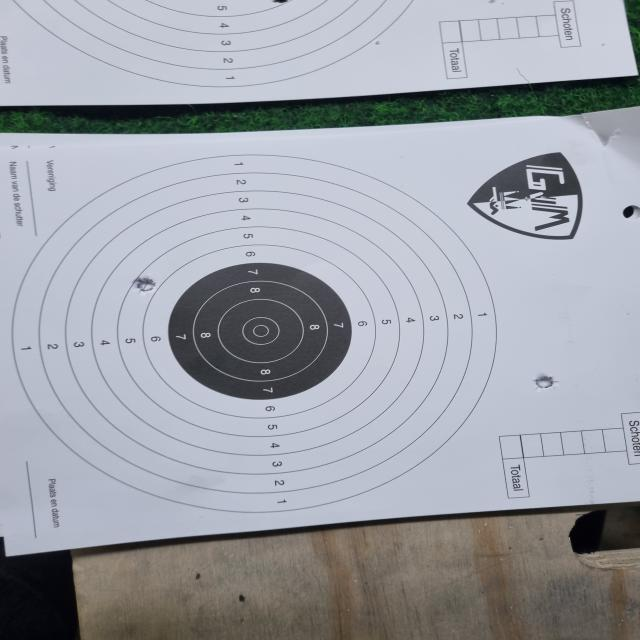0: (534, 375, 558, 390)
5: (133, 278, 156, 293)
Target: (12, 154, 500, 513)
black_contour: (167, 264, 357, 401)
